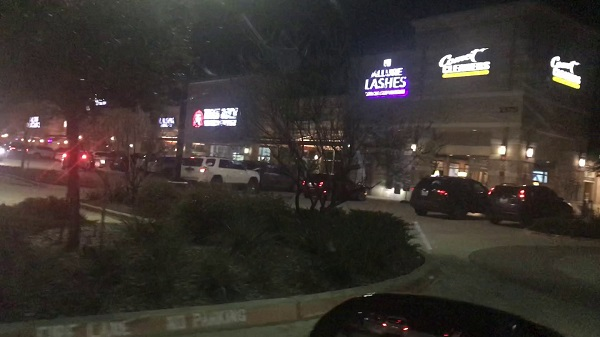car: (487, 181, 574, 229), (409, 177, 491, 219), (180, 155, 262, 186), (302, 171, 369, 199), (59, 143, 91, 167)
